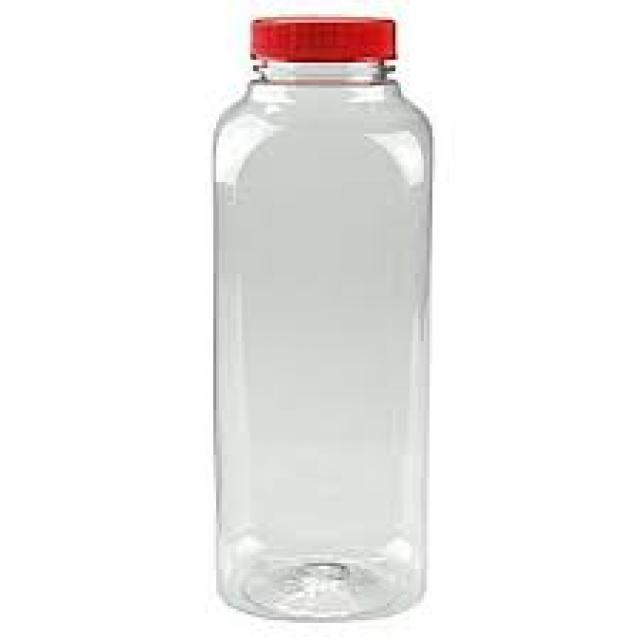Plastic: (209, 19, 433, 624)
